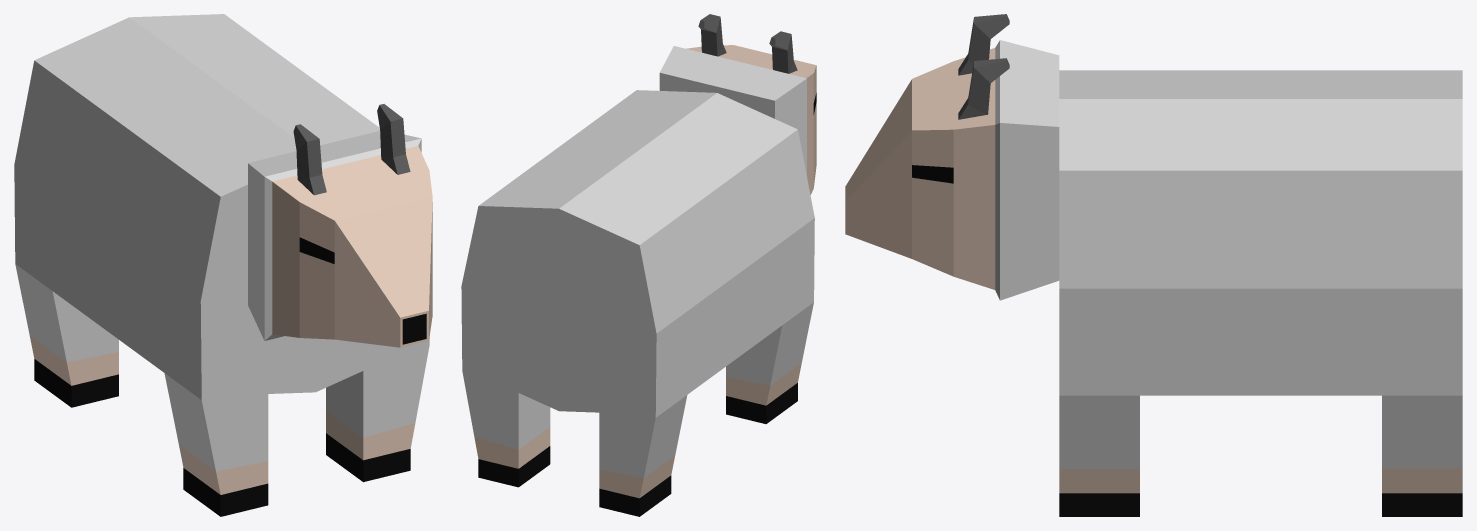
File: goat.fbx
The picture shows the model from 3 angles, left to right: view 1: azimuth 30°, elevation 25°; view 2: azimuth 150°, elevation 25°; view 3: azimuth 270°, elevation 25°; orthographic projection. The views are drawn at different scales.
Parts seen in each view (by area): view 1: Cube, Cube.002; view 2: Cube, Cube.002; view 3: Cube, Cube.002.
Boxes of the visible parts, x1,y1,x2,y2 form: Cube: (14, 14, 429, 516); Cube.002: (248, 104, 432, 347); Cube: (461, 90, 814, 516); Cube.002: (659, 14, 816, 194); Cube: (1059, 70, 1462, 516); Cube.002: (845, 14, 1059, 300).
Bounding box in the file's own units: 176 × 291 × 379.
